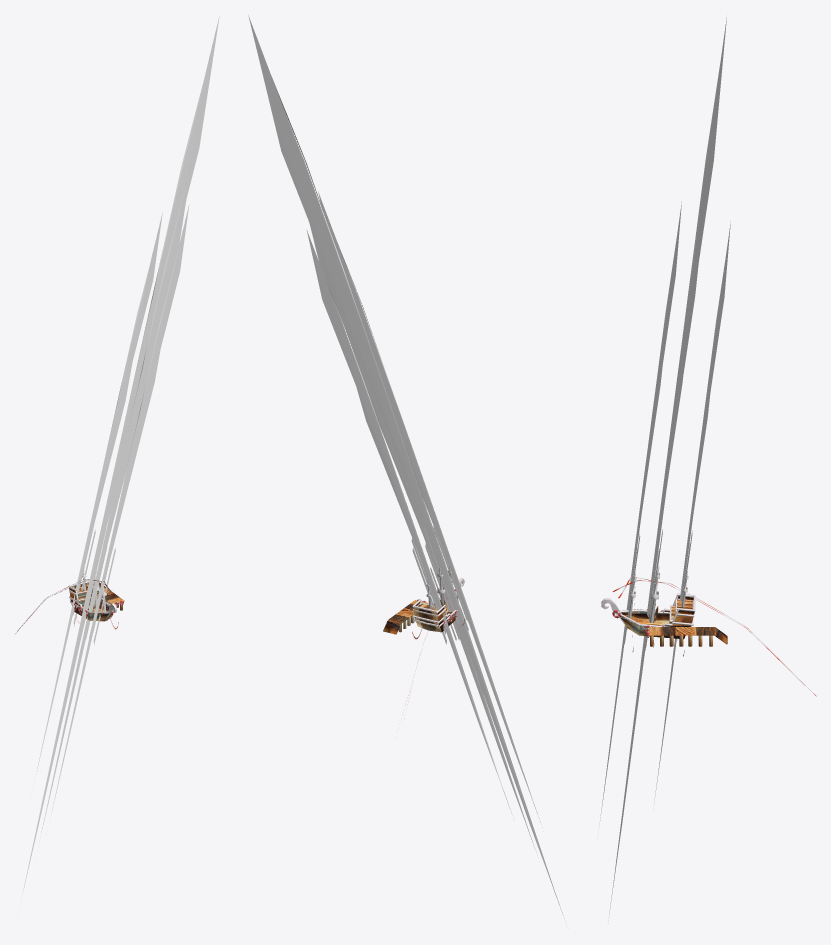
Rendered from Ship_Model_3.glb.
3 views of the same model, side by side, from view 1: azimuth 30°, elevation 25°; view 2: azimuth 150°, elevation 25°; view 3: azimuth 270°, elevation 25° (orthographic). The views are drawn at different scales.
Visible parts, largest first — view 1: Plane.003, Plane.005, Plane.002, Plane.004; view 2: Plane.003, Plane.004, Plane.002, Plane.005; view 3: Plane.005, Plane.003, Plane.002, Plane.004, Plane, Cube.043.
Part boxes in pixels (x1,y1,x2,y2): Plane.003: (20,16,219,904); Plane.005: (39,155,193,840); Plane.002: (50,204,189,816); Plane.004: (36,211,162,774); Plane.003: (248,15,564,918); Plane.004: (306,230,511,812); Plane.002: (318,191,540,822); Plane.005: (309,224,536,851); Plane.005: (616,159,707,858); Plane.003: (608,17,726,920); Plane.002: (599,201,681,827); Plane.004: (654,221,730,803); Plane: (620,596,694,639); Cube.043: (649,627,727,644).
Size of the model in its own units: 44.79 by 140 by 25.85.
Materials: 9 (2 with a texture image).
